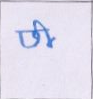i_matra: (34, 20, 55, 47)
